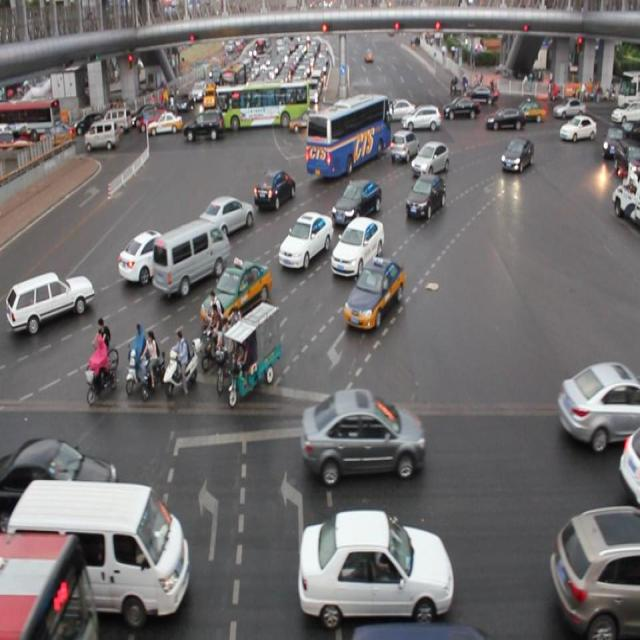car: (298, 505, 453, 619), (549, 502, 639, 640), (302, 388, 426, 478), (0, 432, 119, 519), (556, 355, 640, 450), (1, 267, 95, 334), (200, 256, 271, 329), (344, 255, 403, 334), (278, 209, 331, 271), (332, 218, 384, 276), (118, 230, 170, 282), (198, 194, 253, 240), (332, 177, 381, 220), (405, 175, 445, 217), (252, 169, 295, 208), (412, 140, 449, 174), (500, 137, 531, 174), (390, 130, 418, 160)
truck: (12, 478, 190, 624), (154, 220, 231, 297)
van: (0, 528, 100, 640), (306, 92, 390, 179)
